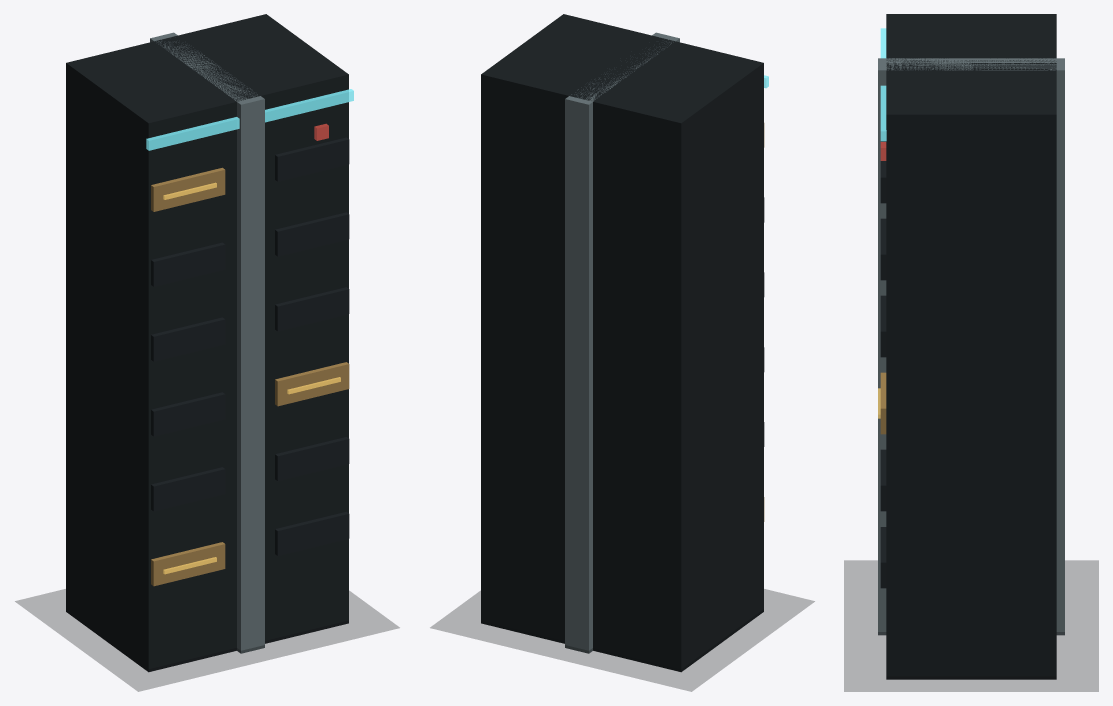
File: hp_room_rm_core_identity_server.glb
The picture shows the model from 3 angles, left to right: view 1: azimuth 30°, elevation 25°; view 2: azimuth 150°, elevation 25°; view 3: azimuth 270°, elevation 25°; orthographic projection. The views are drawn at different scales.
Visible parts, largest first — view 1: server_monolith, spine_rib, contact_shadow, head_band, plate_1_-0.26, plate_3_0.26, plate_3_-0.26, plate_4_-0.26, plate_1_0.26, plate_2_-0.26, plate_4_0.26, plate_5_-0.26 (+4 smaller); view 2: server_monolith, spine_rib, contact_shadow; view 3: server_monolith, contact_shadow, spine_rib, head_band, plate_1_0.26, plate_2_0.26, plate_3_0.26, plate_4_0.26, plate_0_0.26.
Boxes of the visible parts, <box> form: server_monolith: <box>66,14,348,672</box>; spine_rib: <box>150,32,264,653</box>; contact_shadow: <box>15,589,399,691</box>; head_band: <box>146,89,353,150</box>; plate_1_-0.26: <box>151,467,225,511</box>; plate_3_0.26: <box>275,287,349,331</box>; plate_3_-0.26: <box>151,317,225,361</box>; plate_4_-0.26: <box>151,242,225,286</box>; plate_1_0.26: <box>275,437,349,480</box>; plate_2_-0.26: <box>151,392,225,436</box>; plate_4_0.26: <box>275,212,349,256</box>; plate_5_-0.26: <box>151,167,225,211</box>; server_monolith: <box>481,14,763,672</box>; spine_rib: <box>565,32,679,653</box>; contact_shadow: <box>430,589,814,691</box>; server_monolith: <box>886,14,1056,679</box>; contact_shadow: <box>844,560,1098,691</box>; spine_rib: <box>878,58,1064,635</box>; head_band: <box>880,28,886,141</box>; plate_1_0.26: <box>880,449,886,511</box>; plate_2_0.26: <box>880,372,886,434</box>; plate_3_0.26: <box>880,295,886,357</box>; plate_4_0.26: <box>880,218,886,280</box>; plate_0_0.26: <box>880,527,886,588</box>.
Size of the model in its own units: 1.1 by 2.2 by 0.9.
